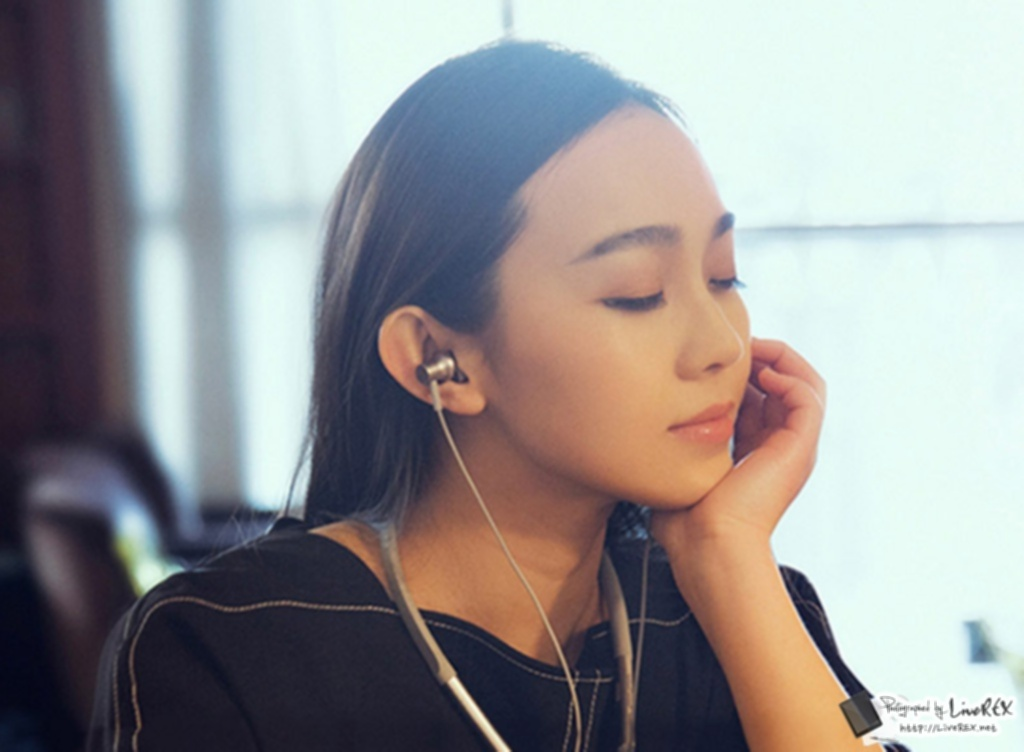earphone: (378, 306, 492, 416)
